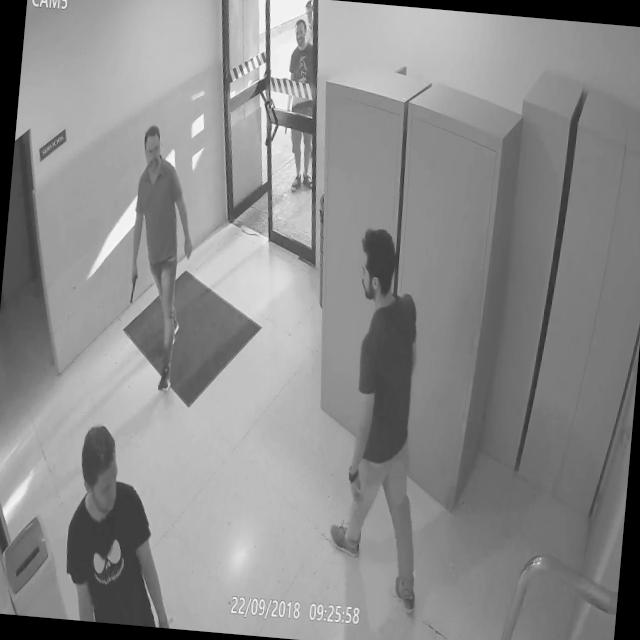gun: (126, 268, 142, 312), (280, 103, 293, 149)
person: (328, 220, 452, 614), (61, 412, 185, 628), (297, 0, 322, 50)
person with a gun: (116, 116, 210, 392), (274, 14, 328, 194)
